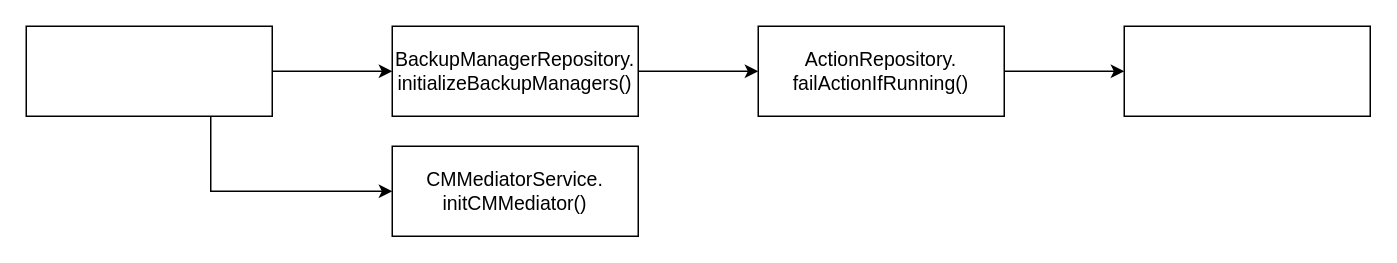
The diagram is 1397 pixels wide and 263 high, and some of its shapes have lost their labels. Each missing label, with the box of its shape:
NotificationService. notifyAllActionFailed(): (1123, 25, 1370, 116)
OrchestratorInitializer. initialize(): (25, 25, 272, 116)
